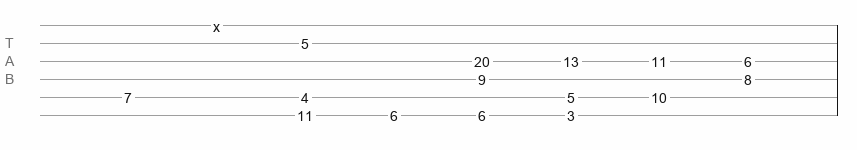10: (651, 90, 667, 100)
11: (297, 108, 313, 118), (651, 54, 667, 64)
13: (563, 54, 579, 64)
20: (474, 54, 490, 64)
3: (567, 108, 575, 118)
4: (301, 90, 309, 100)
5: (301, 36, 309, 46), (567, 90, 575, 100)
6: (390, 108, 398, 118), (478, 108, 486, 118), (744, 54, 752, 64)
7: (124, 90, 132, 100)
8: (744, 72, 752, 82)
9: (478, 72, 486, 82)
x: (213, 19, 220, 27)
